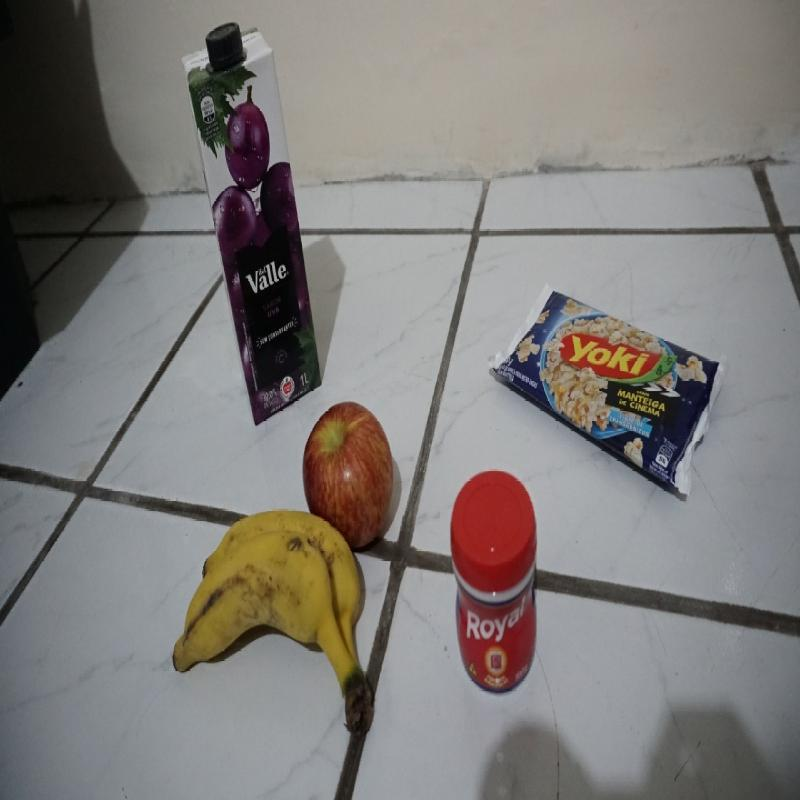Apple: (302, 400, 394, 546)
Banana: (174, 508, 370, 732)
Popcorn: (490, 281, 728, 497)
Yeast: (450, 468, 538, 694)
